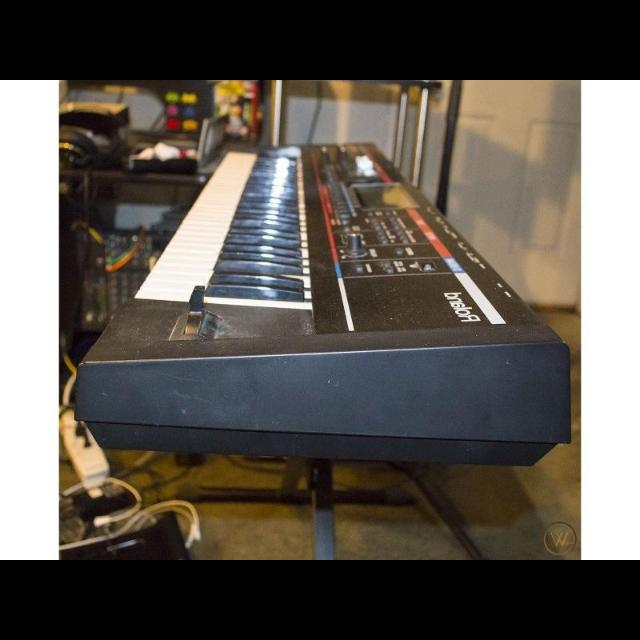Electronic-Keyboard: (86, 134, 574, 470)
